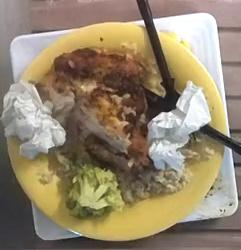broccoli: (67, 161, 125, 217)
rice: (116, 161, 191, 204)
